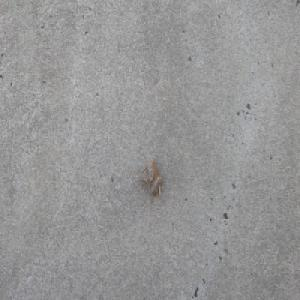Rock: (136, 154, 162, 198)
